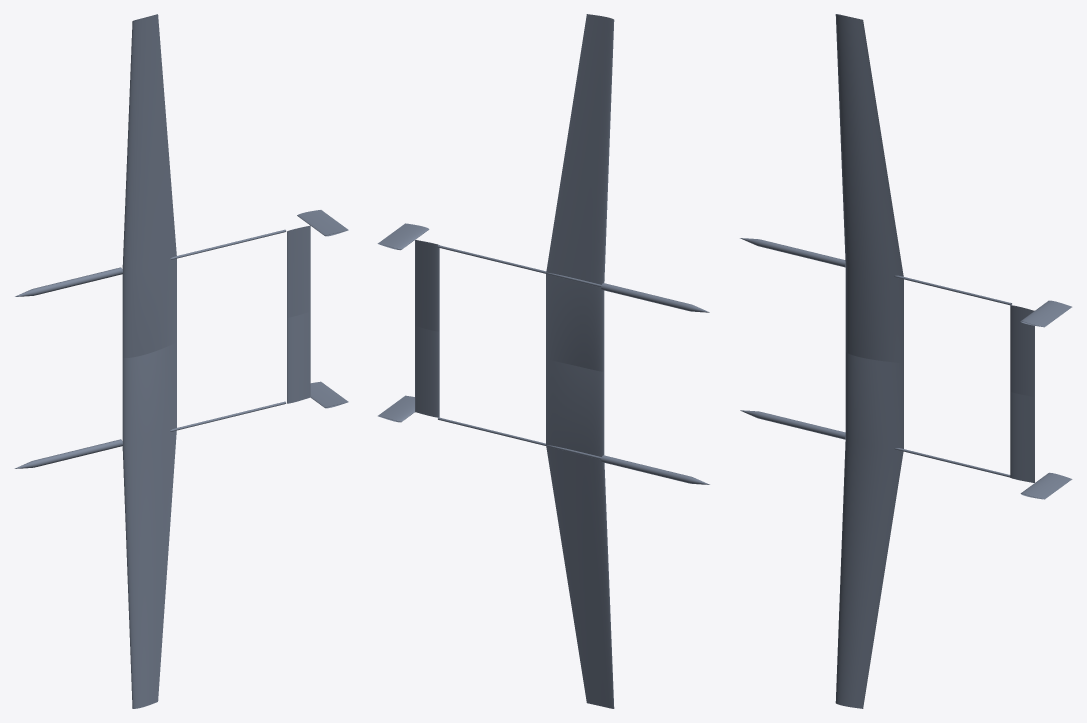
File: solar-airplane.glb
The picture shows the model from 3 angles, left to right: view 1: azimuth 30°, elevation 25°; view 2: azimuth 150°, elevation 25°; view 3: azimuth 330°, elevation 25°; orthographic projection.
Parts seen in each view (by area): view 1: rev6; view 2: rev6; view 3: rev6.
Boxes of the visible parts, x1=… form: rev6: x1=14, y1=14, x2=348, y2=708; rev6: x1=377, y1=14, x2=709, y2=708; rev6: x1=740, y1=14, x2=1072, y2=708.
Size of the model in its own units: 2.92 by 6 by 0.44.
